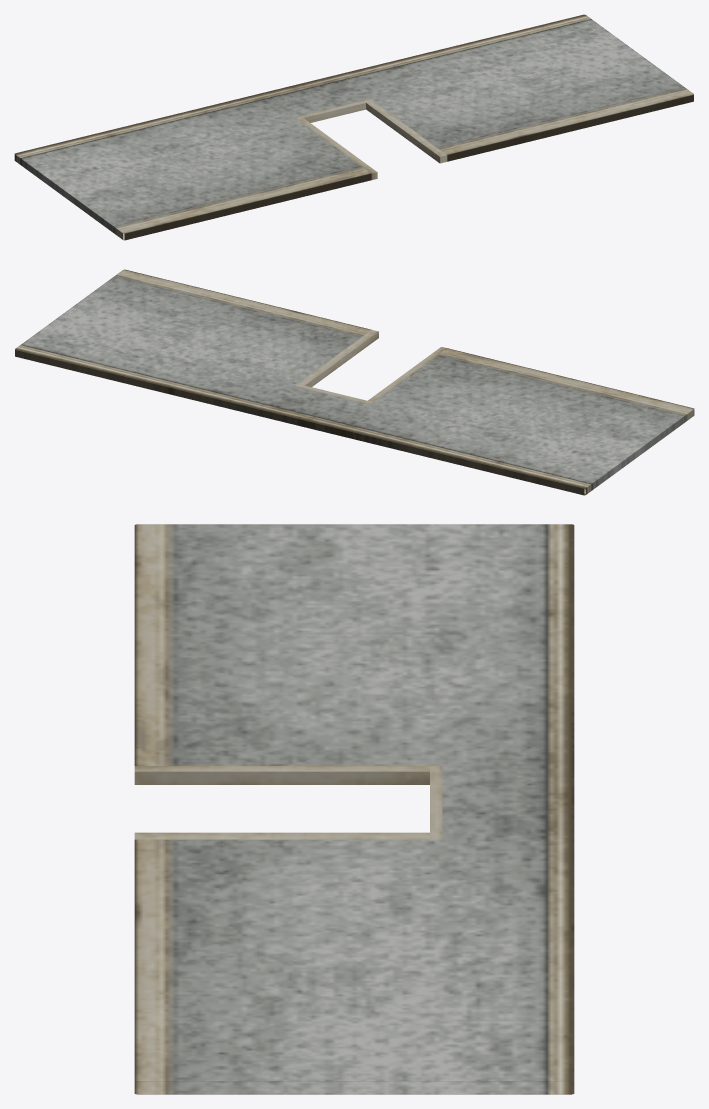
The model's file is SM_EC_House_Wall_DoorWay_9x3_4.fbx.
3 renders of one model, top to bottom at view 1: azimuth 30°, elevation 25°; view 2: azimuth 150°, elevation 25°; view 3: azimuth 270°, elevation 25°, orthographic. The views are drawn at different scales.
Parts seen in each view (by area): view 1: SM_EC_House_Wall_DoorWay_9x3_4; view 2: SM_EC_House_Wall_DoorWay_9x3_4; view 3: SM_EC_House_Wall_DoorWay_9x3_4.
Part boxes in pixels (x1,y1,x2,y2): SM_EC_House_Wall_DoorWay_9x3_4: (14, 14, 693, 240); SM_EC_House_Wall_DoorWay_9x3_4: (15, 269, 694, 495); SM_EC_House_Wall_DoorWay_9x3_4: (134, 524, 574, 1094).
Bounding box in the file's own units: 9 × 3 × 0.1.
